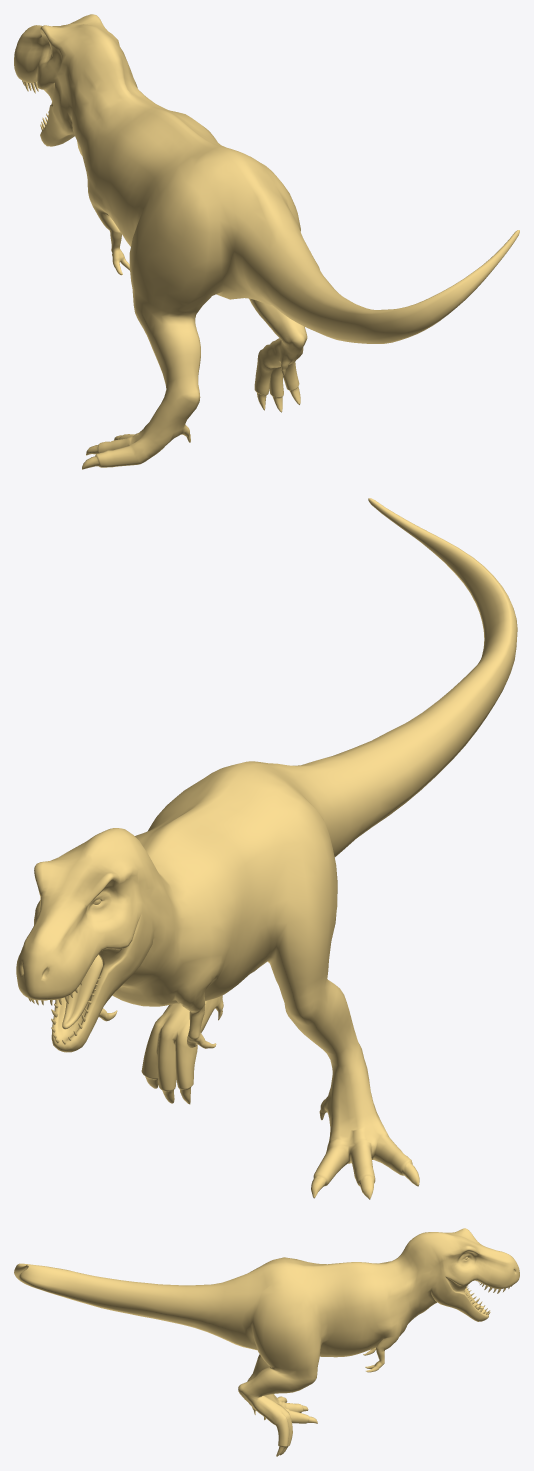
Rendered from trex.glb.
3 renders of one model, top to bottom at view 1: azimuth 30°, elevation 25°; view 2: azimuth 150°, elevation 25°; view 3: azimuth 270°, elevation 25°, orthographic. The views are drawn at different scales.
Visible parts, largest first — view 1: node_id30; view 2: node_id30; view 3: node_id30.
Part boxes in pixels (bbox=[...]): node_id30: bbox=[14, 14, 519, 469]; node_id30: bbox=[16, 498, 517, 1199]; node_id30: bbox=[14, 1228, 519, 1456].
Bounding box in the file's own units: 0.9534 × 1.27 × 2.71.
